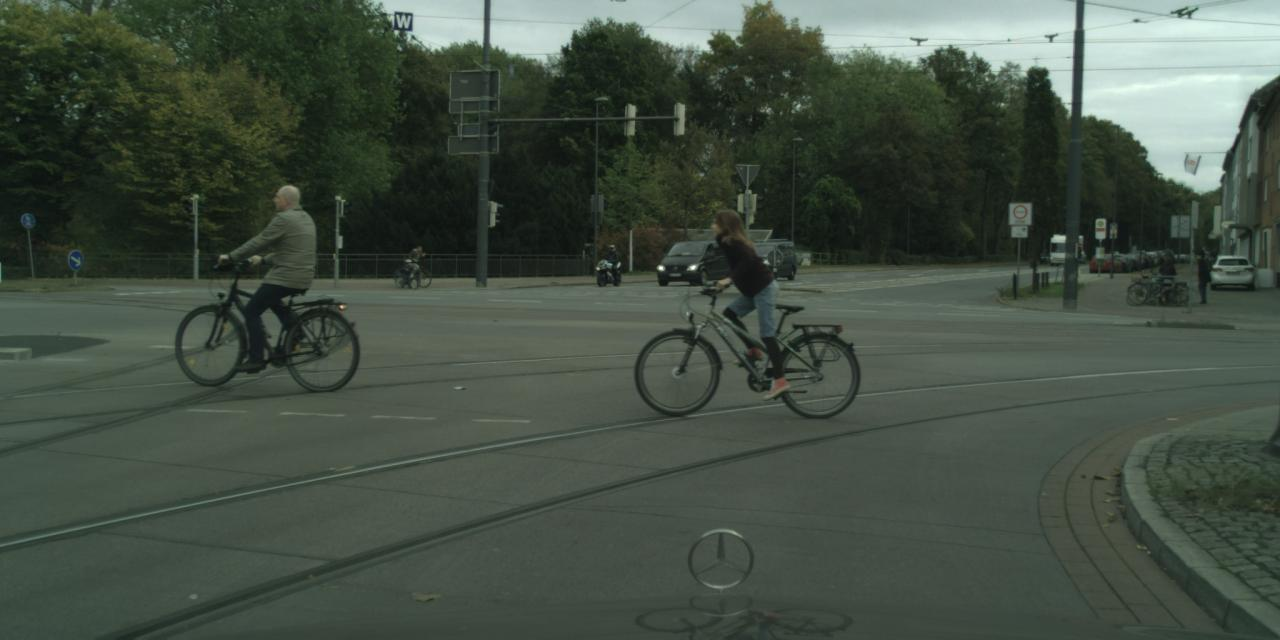ped: (705, 210, 775, 380), (250, 184, 318, 352), (1190, 250, 1211, 303), (1157, 255, 1174, 298), (603, 244, 617, 278), (408, 245, 422, 279), (402, 258, 412, 288)
